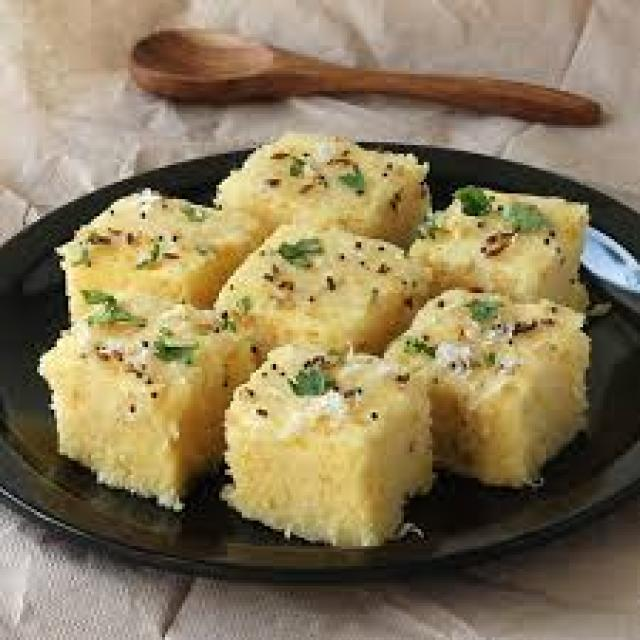DHOKLA: (30, 286, 263, 504), (222, 342, 437, 543), (383, 286, 593, 480), (216, 224, 440, 358), (67, 188, 260, 312), (216, 134, 424, 242), (408, 188, 593, 302)
